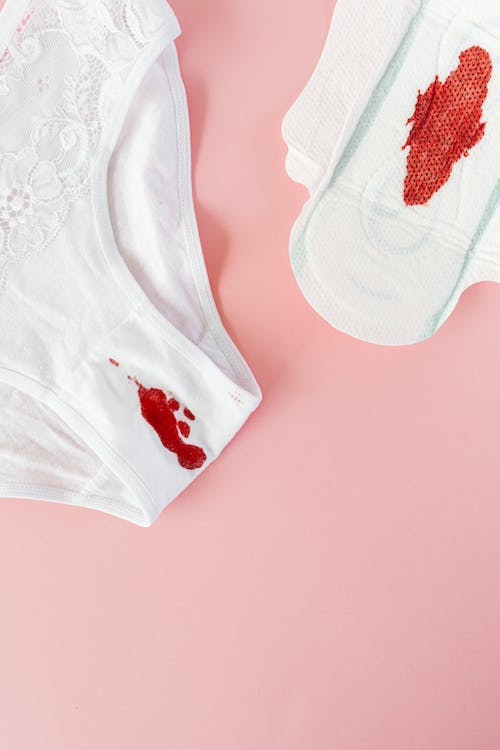blood: (397, 42, 500, 211), (103, 353, 208, 472)
